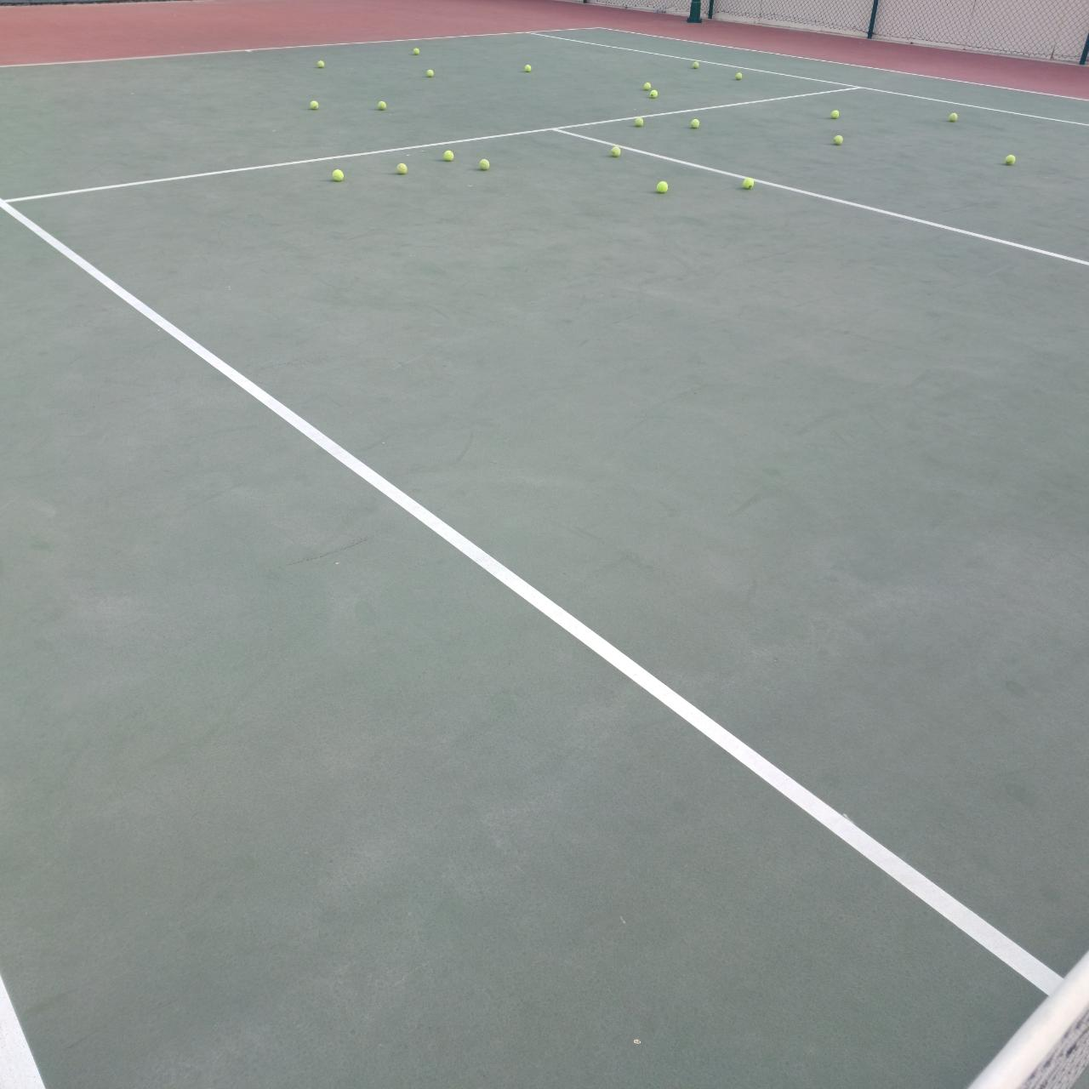tennis-ball: (656, 180, 669, 194), (332, 168, 344, 181), (742, 178, 754, 190), (396, 163, 408, 175), (443, 150, 455, 161), (479, 158, 490, 170), (1005, 154, 1016, 165), (833, 134, 843, 145), (611, 146, 620, 158), (309, 100, 319, 110), (690, 119, 700, 129), (634, 117, 643, 127), (948, 113, 958, 122), (378, 101, 386, 110), (524, 64, 532, 73), (831, 110, 839, 119), (650, 90, 658, 99), (317, 60, 325, 68), (426, 69, 434, 77), (735, 73, 743, 81), (644, 82, 651, 91), (692, 61, 699, 69), (413, 48, 420, 55)
